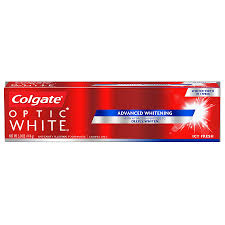colgate-medium: (4, 81, 218, 138)
